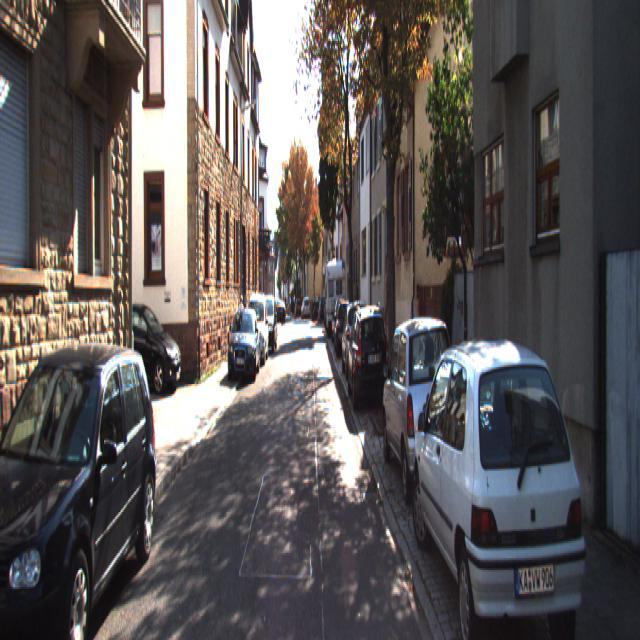Car: (408, 326, 602, 638), (0, 337, 163, 639), (382, 309, 467, 502), (106, 308, 184, 404), (346, 302, 393, 418), (226, 305, 261, 383), (342, 302, 372, 387), (243, 290, 270, 364), (326, 258, 348, 338), (258, 296, 280, 358), (275, 301, 287, 325)
